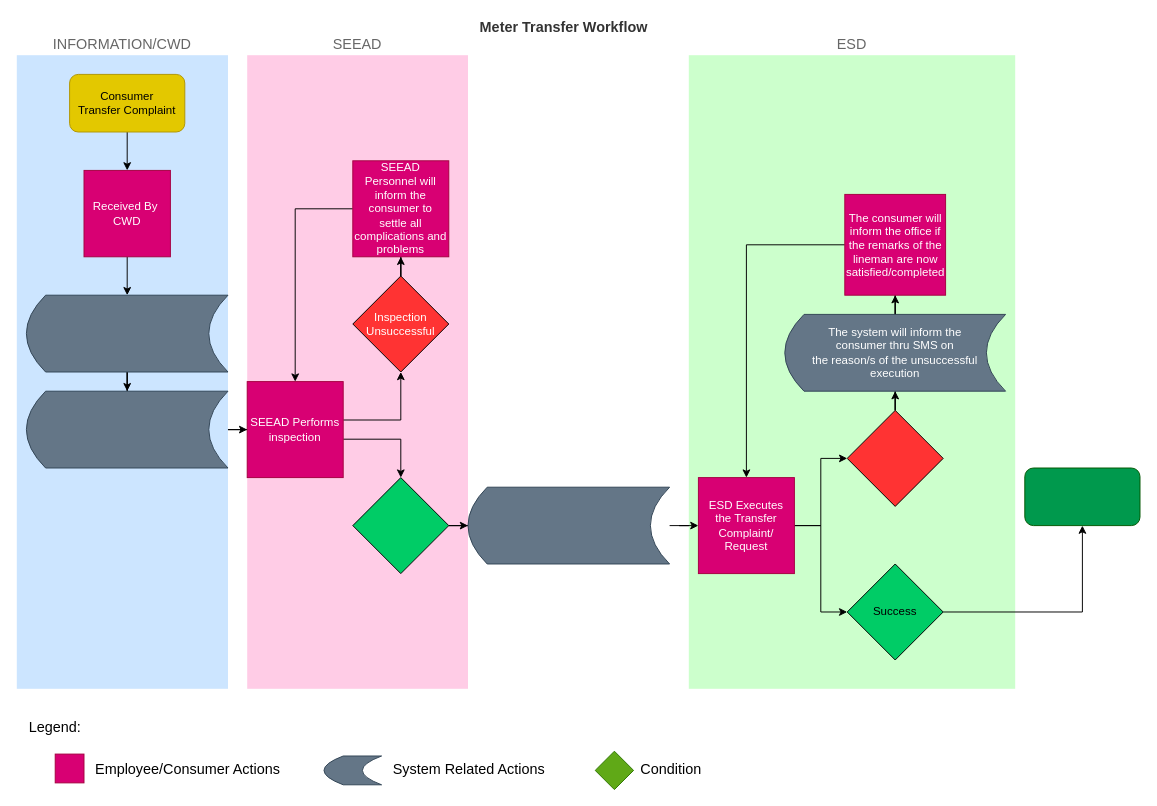
Some shapes in this 1157 by 806 pixel diagram are drawn without their labels. The centre of each missing label's shape, as x and y in pixels:
"Failed" goes at (894,457).
"Inspection Successful" goes at (400,525).
"Request/Complaint Closed" goes at (1082,496).
"System automatically creates an Inspection memo prior to the Transfer memo" goes at (126,333).
"The inspection memo will be forwarded to SEEAD for further action" goes at (126,429).
"The system forwards the Transfer Memo to ESD for Execution" goes at (568,525).
